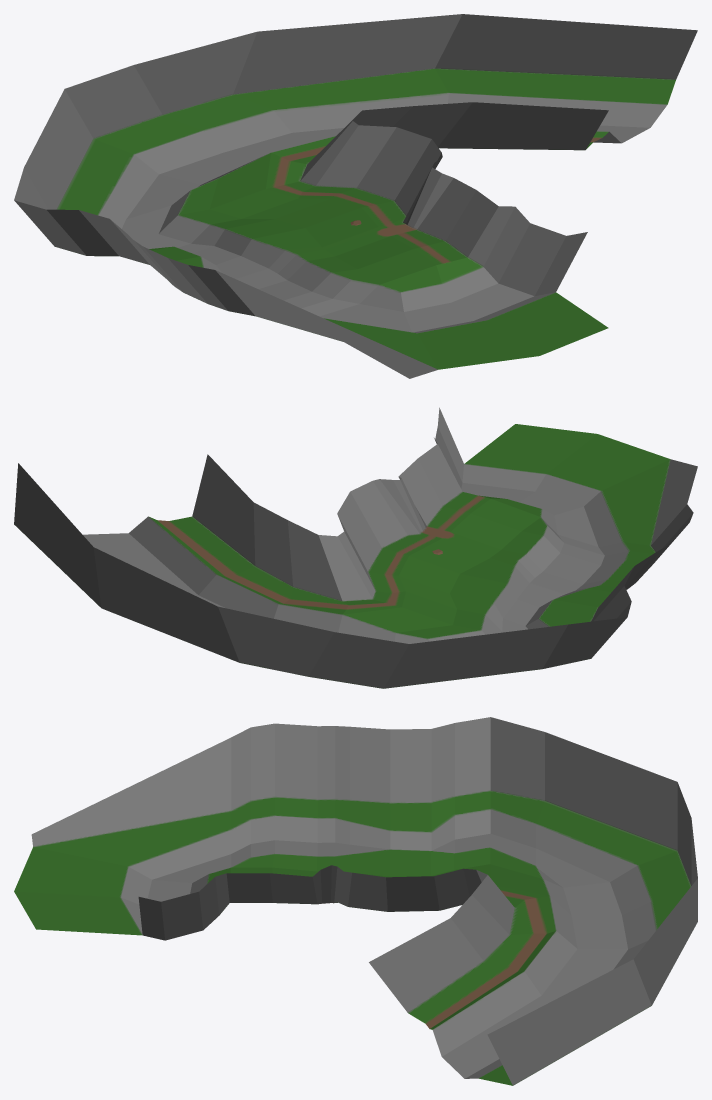
The model's file is Ground.fbx.
3 renders of one model, top to bottom at view 1: azimuth 30°, elevation 25°; view 2: azimuth 150°, elevation 25°; view 3: azimuth 270°, elevation 25°, orthographic. The views are drawn at different scales.
Parts seen in each view (by area): view 1: ground; view 2: ground; view 3: ground.
Part boxes in pixels (x1,y1,x2,y2): ground: (14, 14, 697, 378); ground: (14, 407, 697, 688); ground: (14, 717, 697, 1085).
Size of the model in its own units: 56302 by 6781 by 50492.
Materials: 3 (3 with a texture image).
